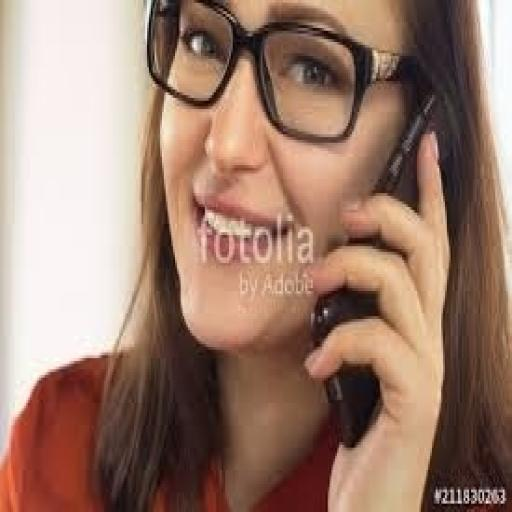calling: (0, 0, 510, 509)
